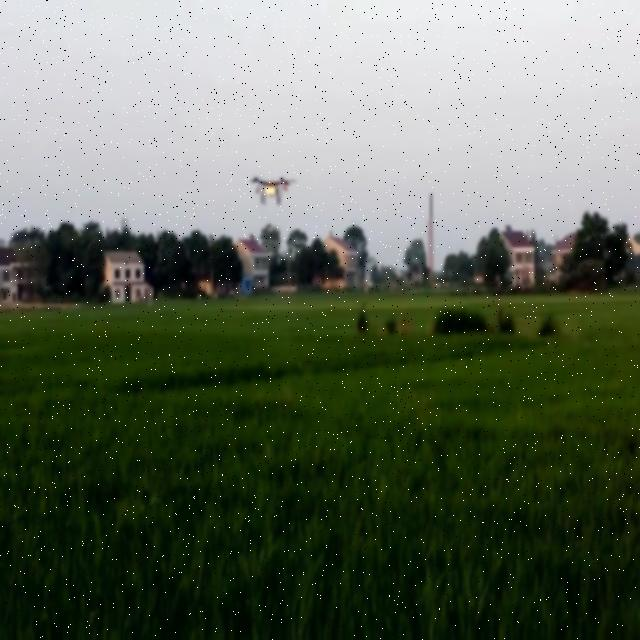UAV: (252, 172, 292, 206)
